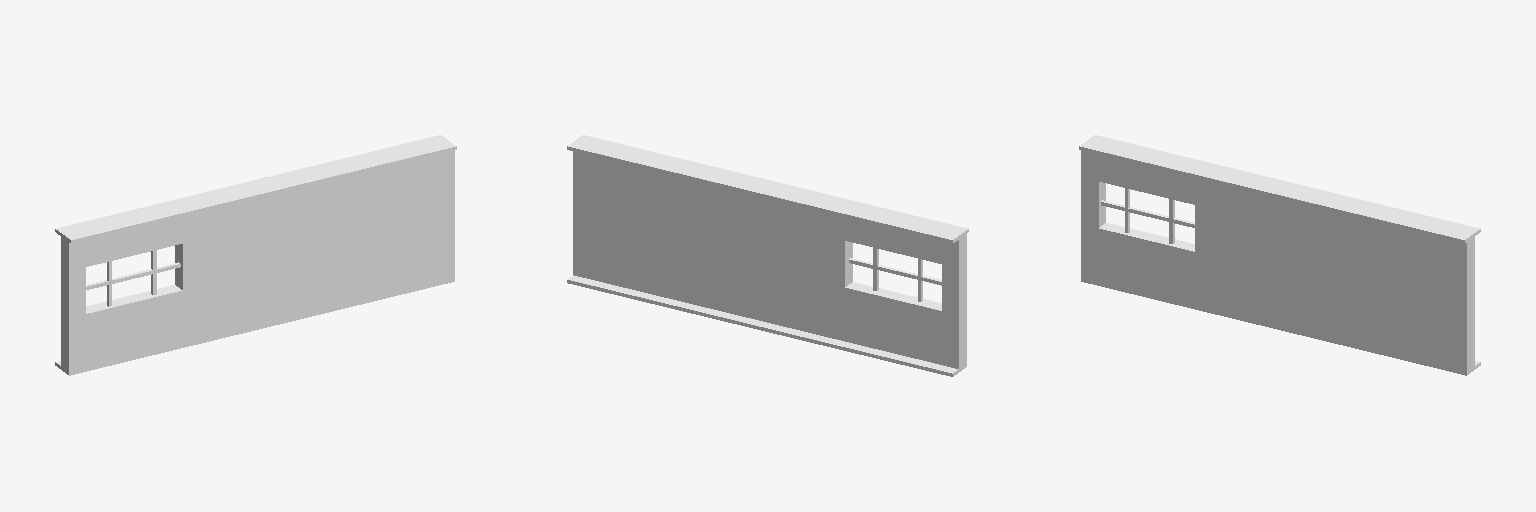
The model's file is modern-wall-left-small-window.obj.
3 renders of one model, left to right at view 1: azimuth 30°, elevation 25°; view 2: azimuth 150°, elevation 25°; view 3: azimuth 330°, elevation 25°, orthographic.
Parts seen in each view (by area): view 1: modern:wall-left-small-window; view 2: modern:wall-left-small-window; view 3: modern:wall-left-small-window.
Part boxes in pixels (bbox=[...]): modern:wall-left-small-window: bbox=[55, 135, 456, 375]; modern:wall-left-small-window: bbox=[567, 135, 968, 376]; modern:wall-left-small-window: bbox=[1079, 135, 1480, 375].
Size of the model in its own units: 112 by 38 by 8.